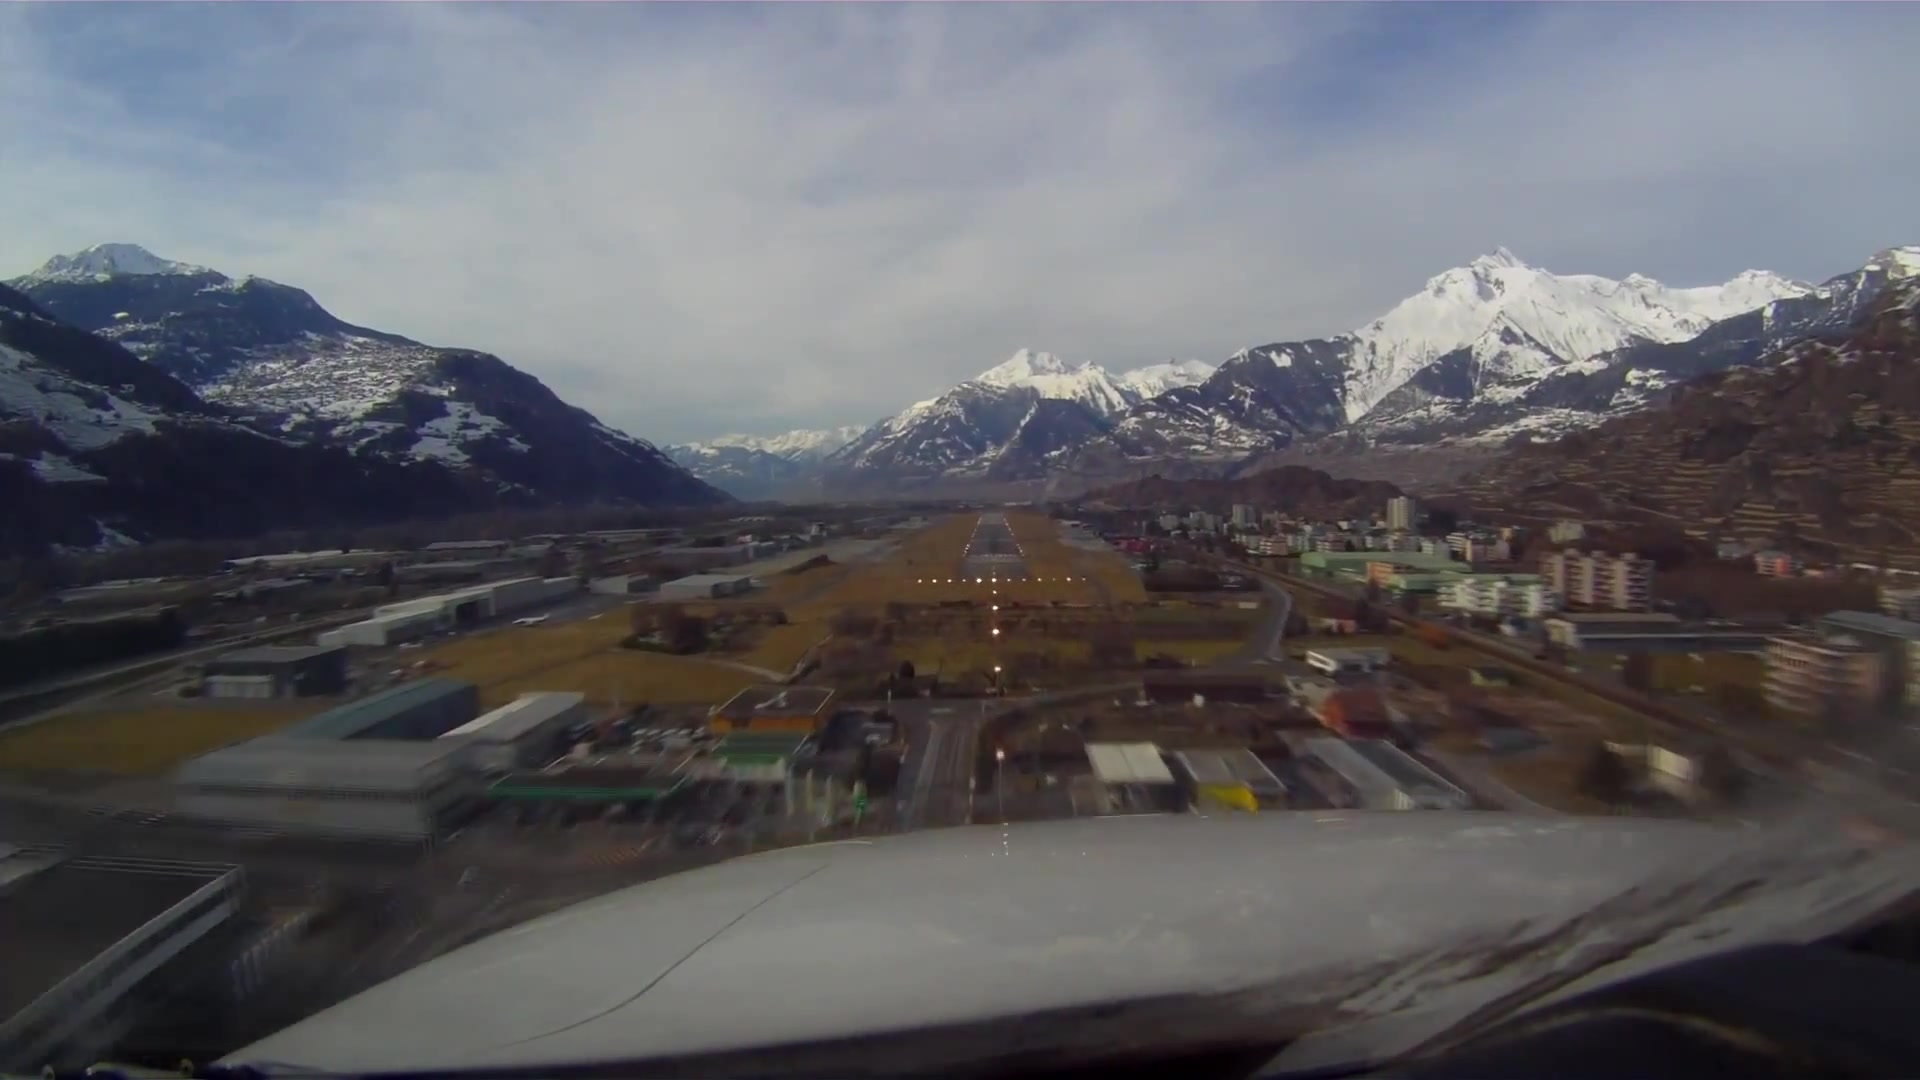runway: (963, 512, 1029, 568)
